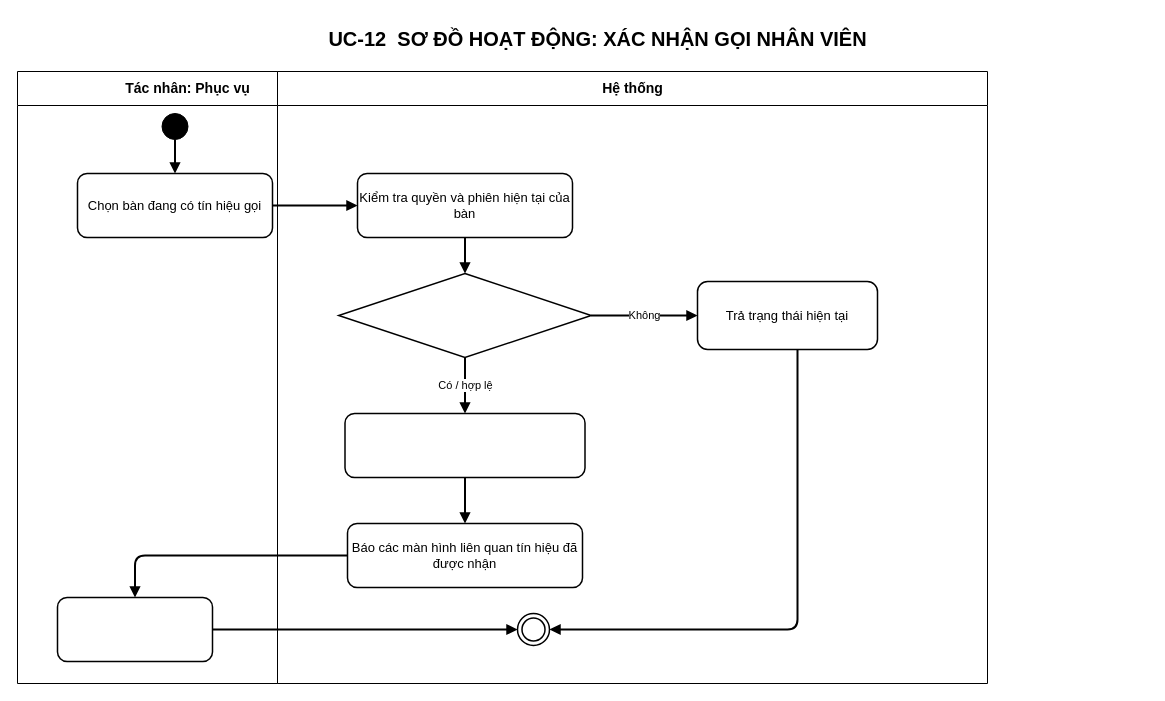
Image size: 1165x701. Some labels were removed from this diagram. Here are the shapes that lost their labels. From the top down, the centre of each, then its label:
pixel 465 315: Phiên tồn tại và đang có tín hiệu gọi?
pixel 464 445: Ghi nhận nhân viên đã tiếp nhận tín hiệu
pixel 134 629: Tín hiệu trên bàn tắt
